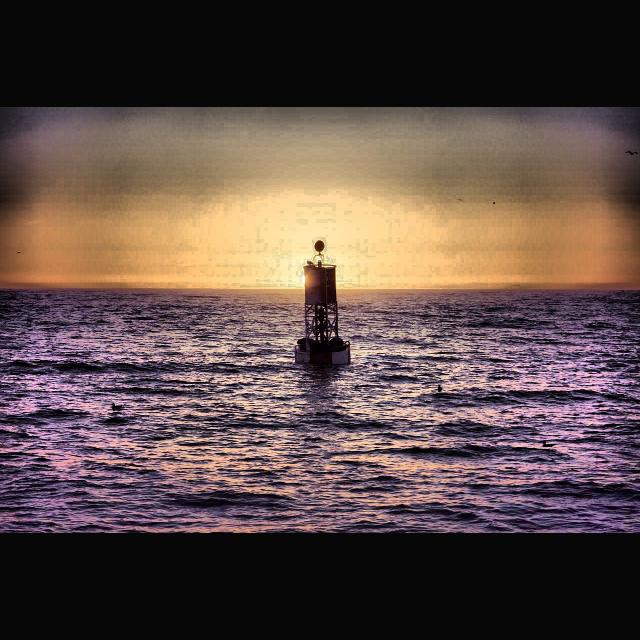buoy: (294, 241, 352, 369)
